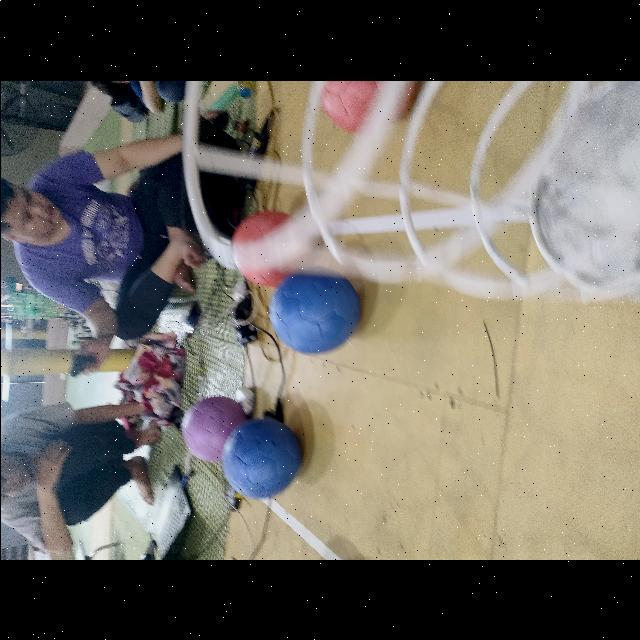B: (269, 270, 359, 352), (221, 418, 299, 498)
P: (180, 396, 246, 462)
R: (232, 210, 312, 286), (320, 80, 416, 132)
